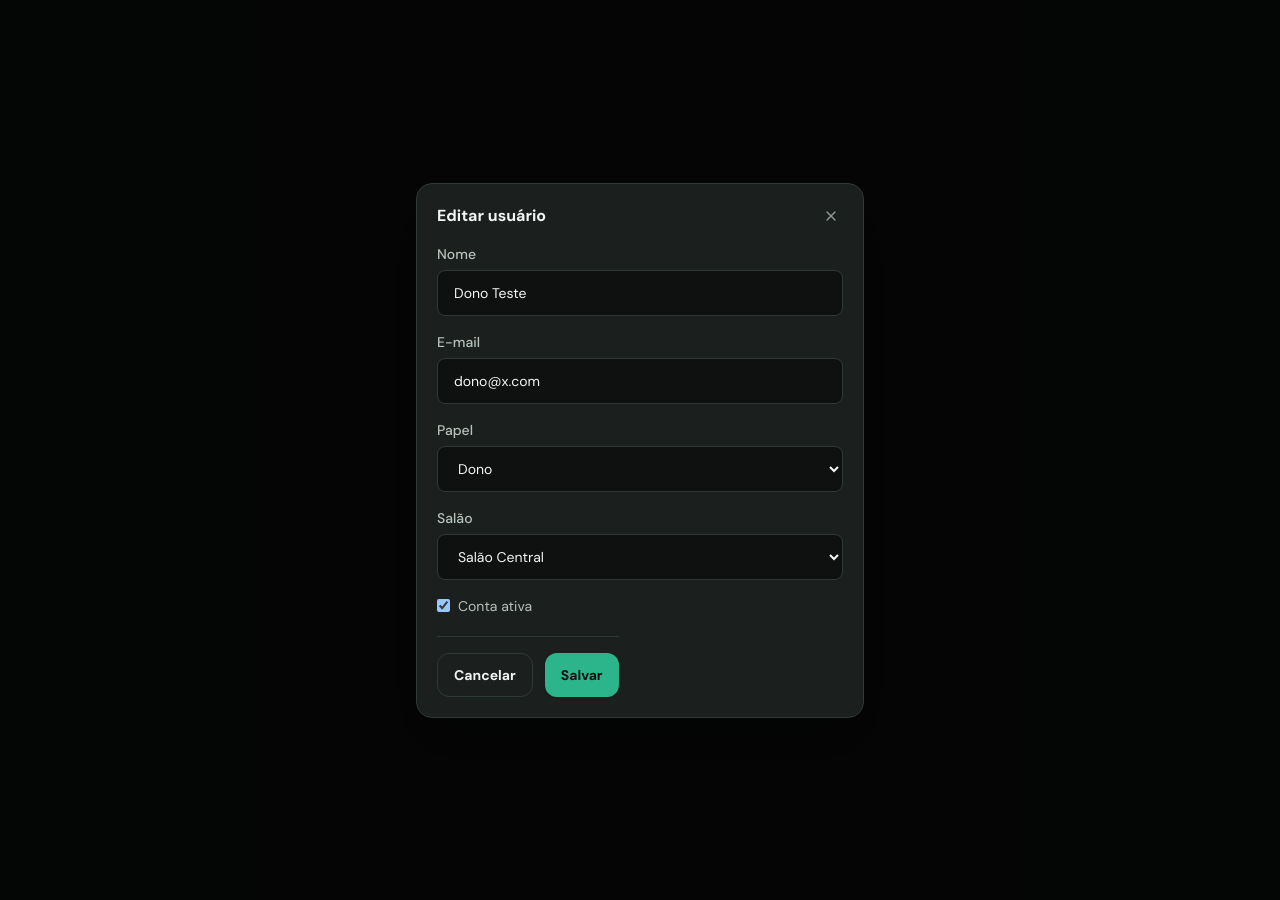
Test: UserFormDialog › edita usuário e reporta erro da API
Replace the text in the field labelled "Nome" with "Dono Editado" at (640, 292), box top-left (437, 270), bottom-right (843, 316)
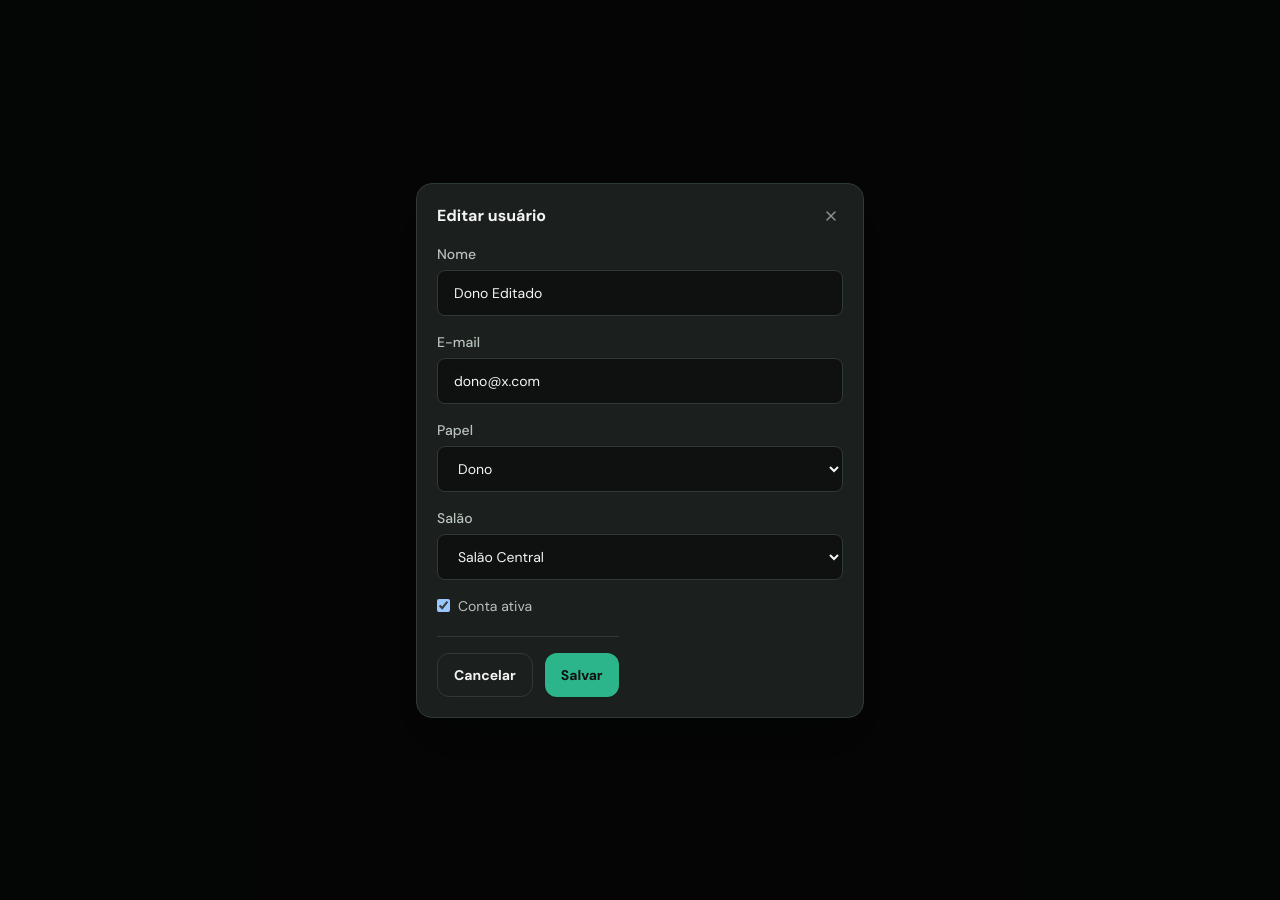
Click the button "Salvar" at (582, 674), box top-left (545, 652), bottom-right (619, 696)
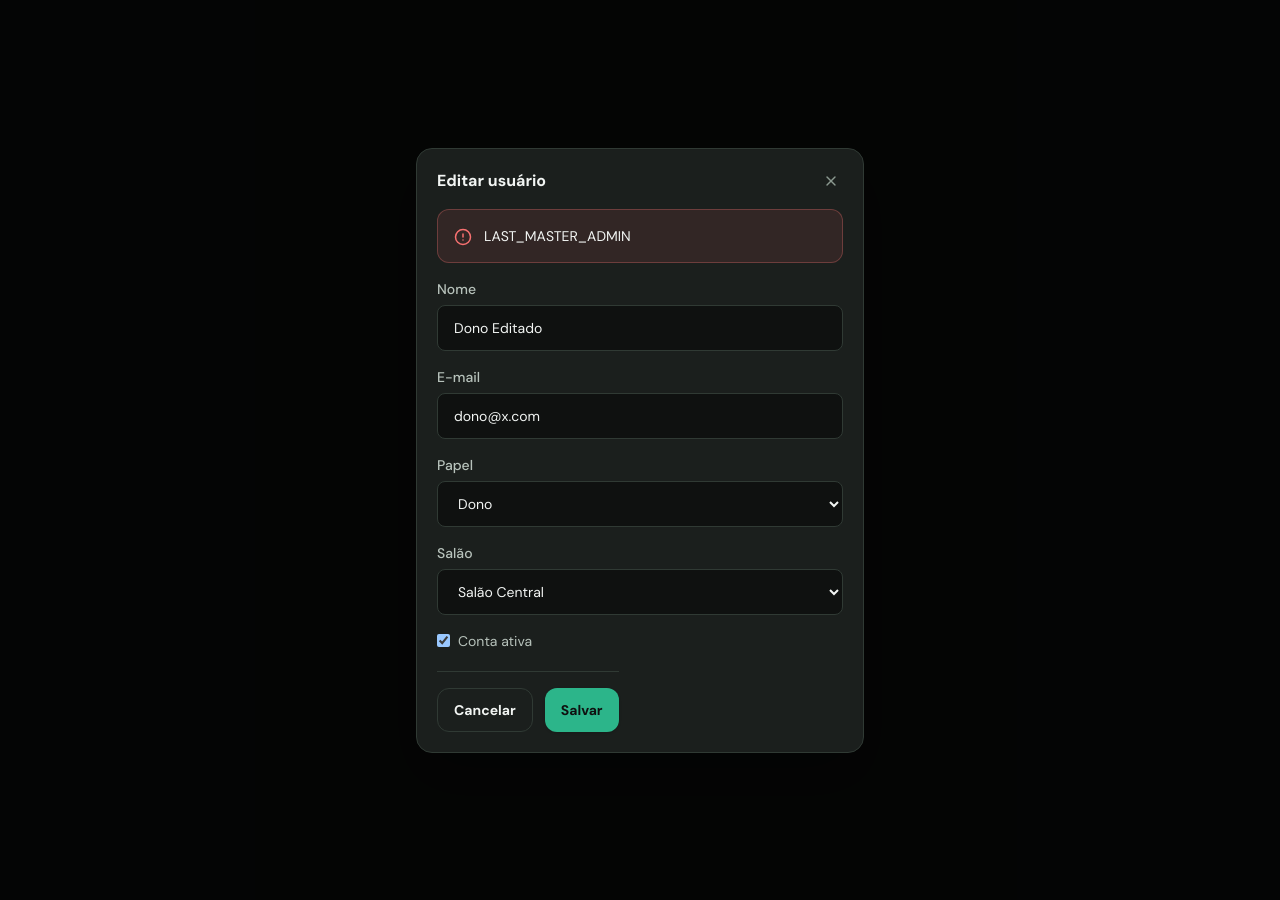
Expected: the message reads "LAST_MASTER_ADMIN", top-left (484, 226), bottom-right (631, 244)
